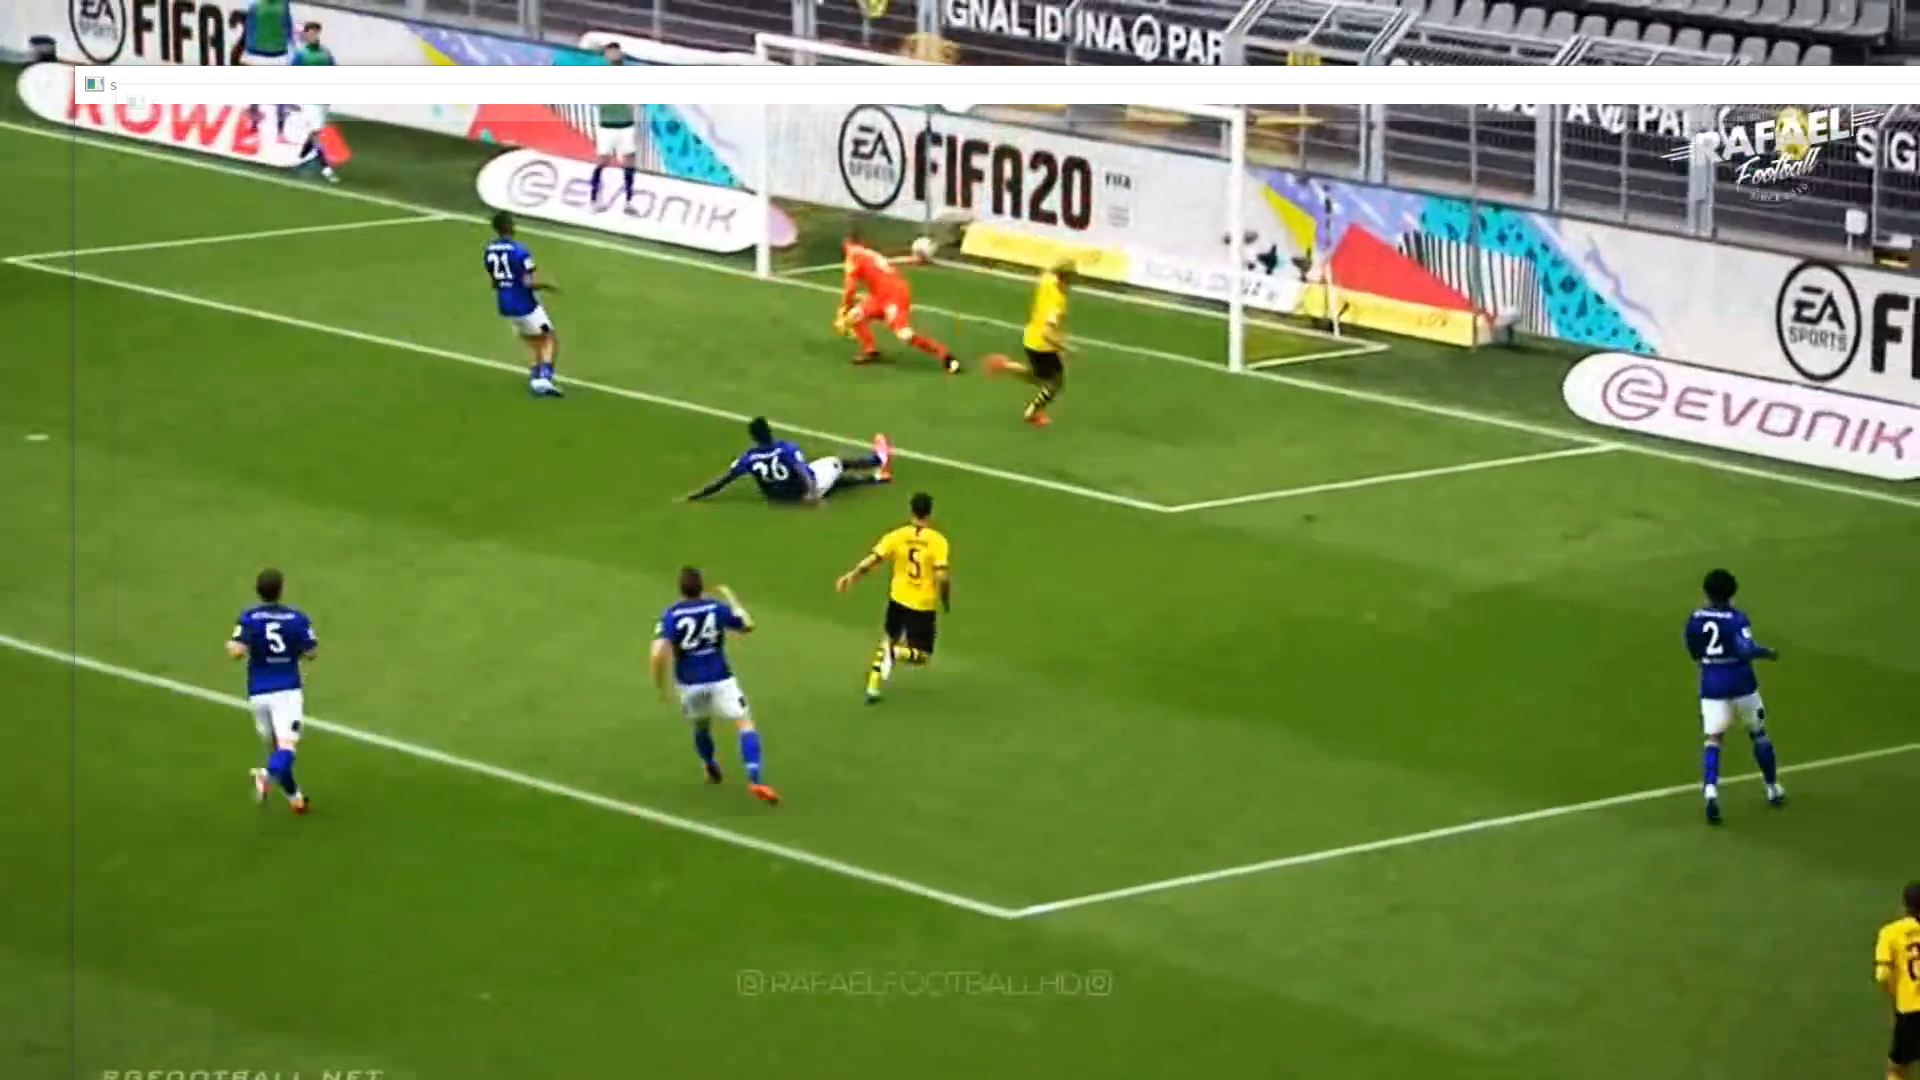ft: (913, 235, 938, 260)
